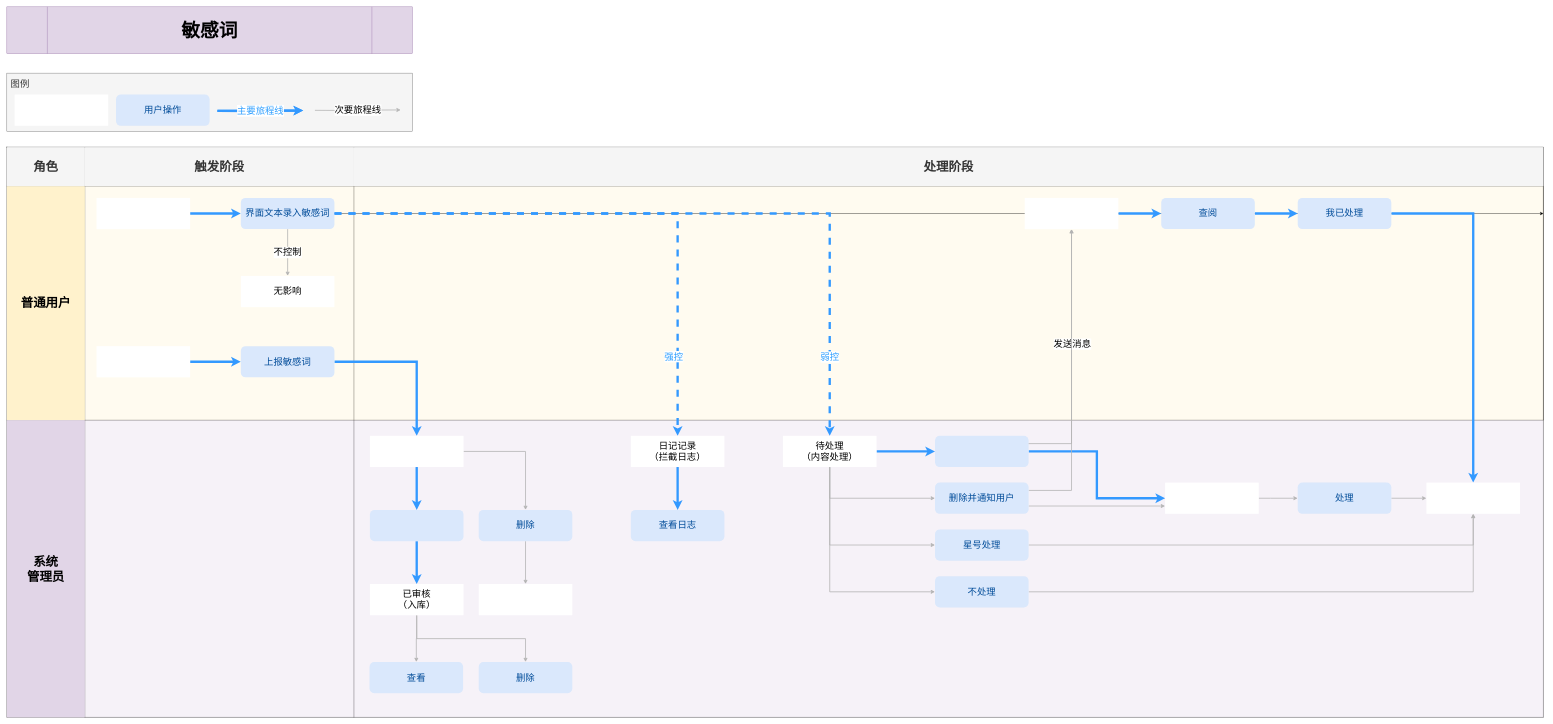
This 1553x724 diagram has some shape labels left out. The centre of each missing label's shape, as x and y in pixels:
"业务表单" goes at [143,213].
"代用户处理" goes at [1212,498].
"任意页面" goes at [143,361].
"已处理" goes at [1473,498].
"待审核敏感词" goes at [416,451].
"旅程场景" goes at [61,110].
"消息体" goes at [1071,213].
"确定" goes at [416,525].
"记录删除" goes at [525,599].
"通知用户" goes at [981,451].
